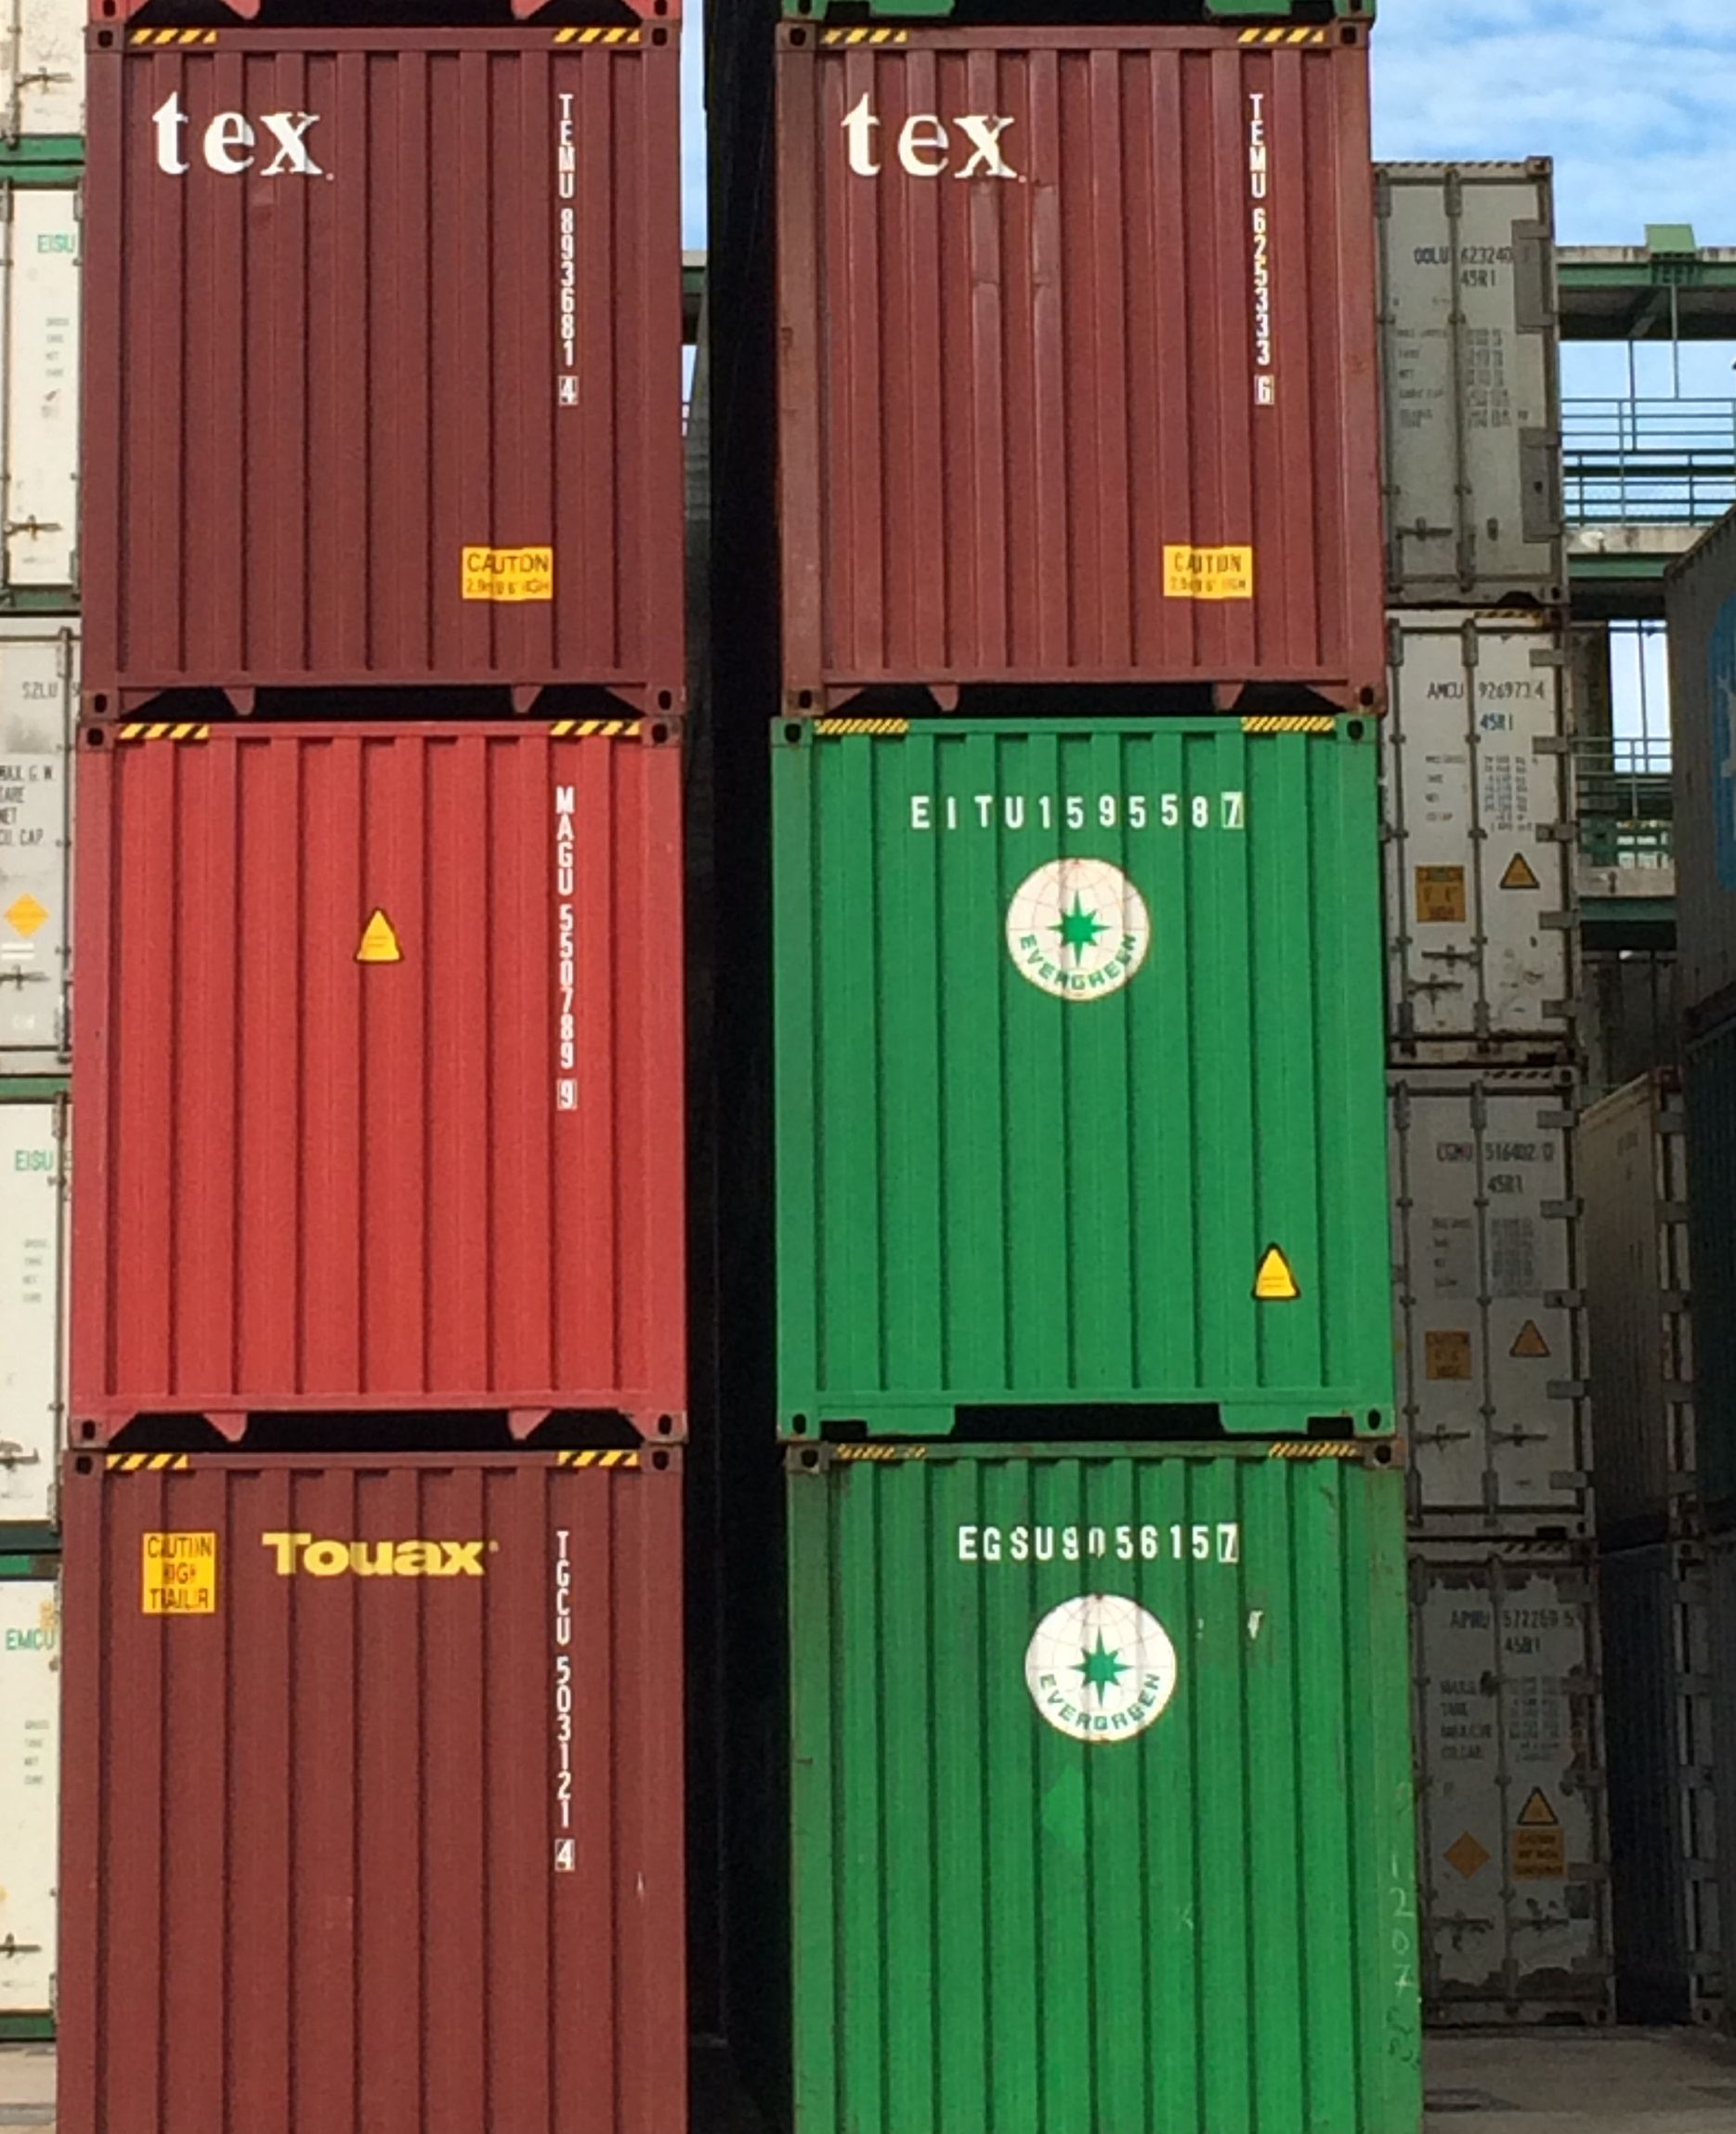container_door: (1376, 149, 1573, 611), (1391, 615, 1587, 1077), (1391, 1080, 1587, 1543), (1428, 1562, 1624, 2024)
container_no_door: (779, 715, 1401, 1440), (73, 7, 682, 724), (66, 724, 675, 1440), (50, 1452, 682, 2134), (792, 1452, 1422, 2134), (785, 16, 1383, 712)
